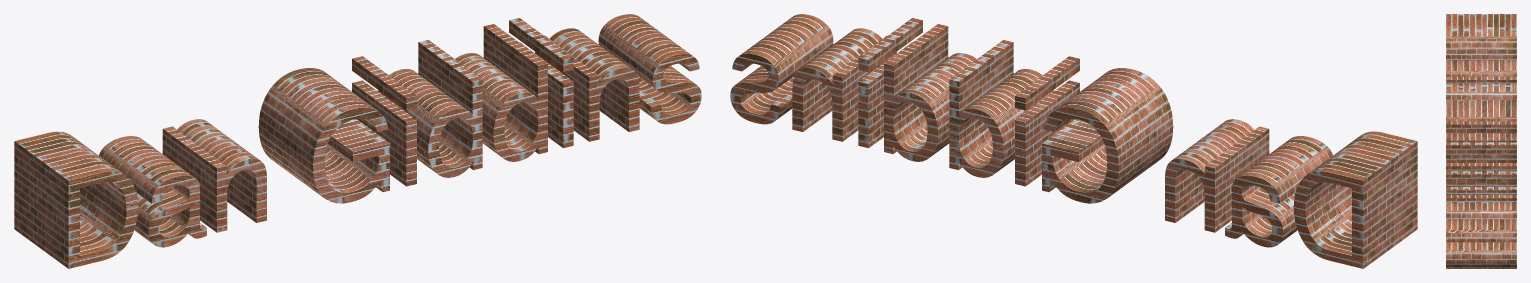
Rendered from Dan.obj.
3 renders of one model, left to right at view 1: azimuth 30°, elevation 25°; view 2: azimuth 150°, elevation 25°; view 3: azimuth 270°, elevation 25°, orthographic. The views are drawn at different scales.
Parts seen in each view (by area): view 1: _2, object 1; view 2: _2, _1; view 3: _2.
Boxes of the visible parts, x1=… form: _2: x1=14, y1=14, x2=694, y2=268; object 1: x1=68, y1=53, x2=701, y2=268; _2: x1=737, y1=14, x2=1417, y2=268; _1: x1=730, y1=53, x2=1363, y2=268; _2: x1=1446, y1=14, x2=1516, y2=268.
Bounding box in the file's own units: 17.37 × 2.44 × 2.58.
3 materials, 3 textured.
